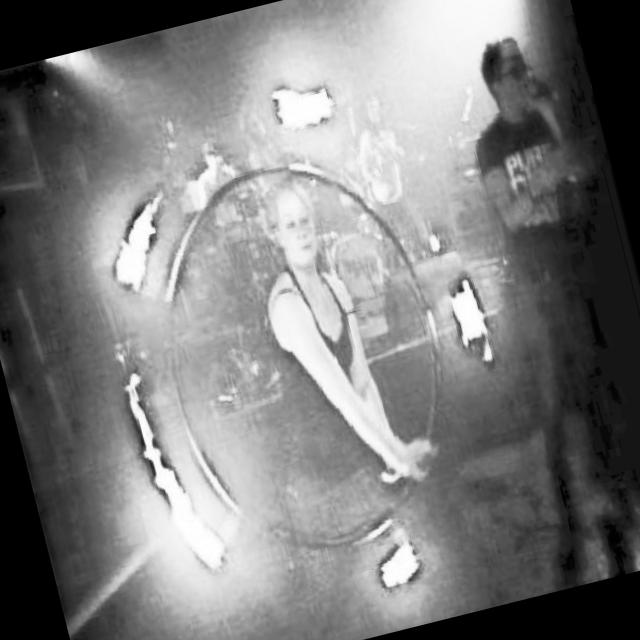Person: (441, 18, 640, 537), (216, 152, 447, 518)
